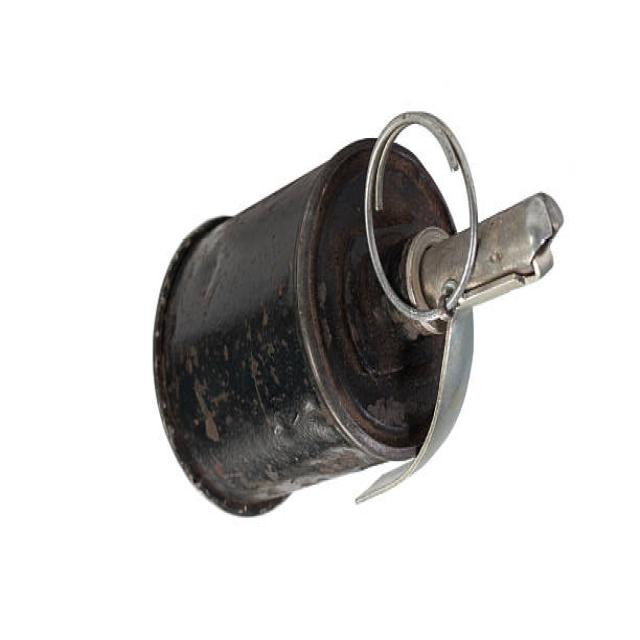grenade: (145, 115, 569, 530)
